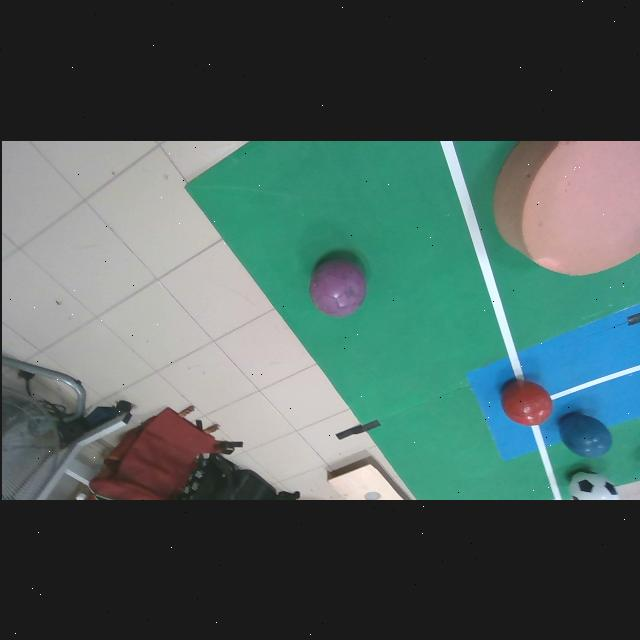B: (558, 413, 611, 458)
P: (308, 259, 365, 316)
R: (502, 380, 552, 425)
